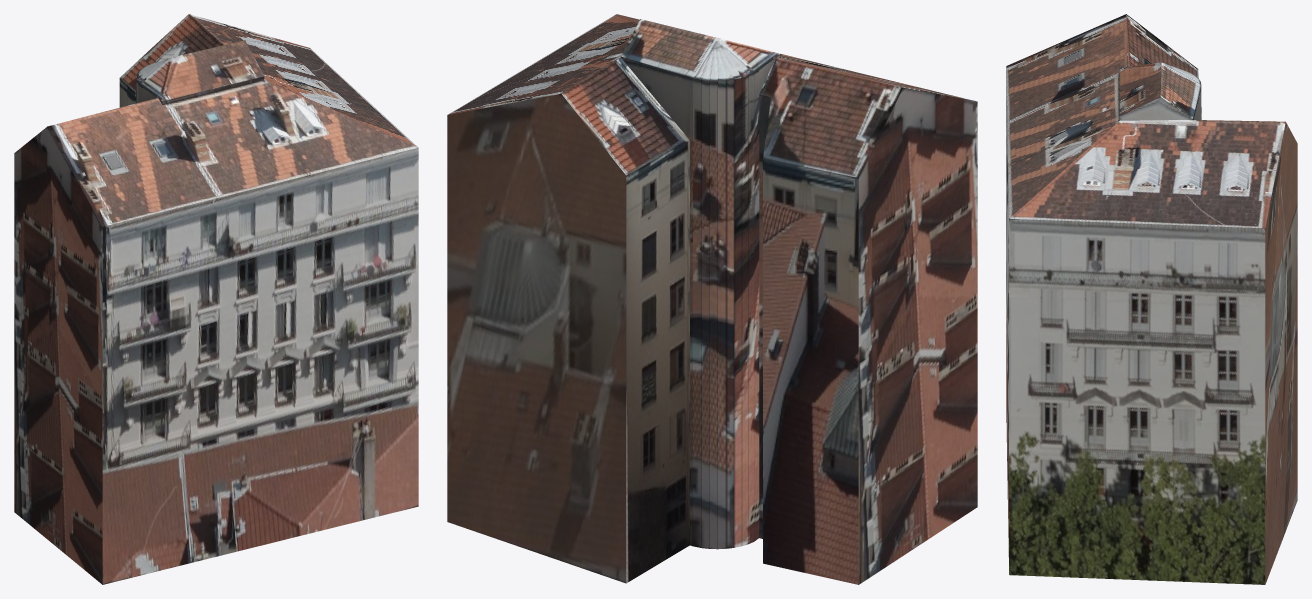
3 renders of one model, left to right at view 1: azimuth 30°, elevation 25°; view 2: azimuth 150°, elevation 25°; view 3: azimuth 270°, elevation 25°, orthographic. The views are drawn at different scales.
Visible parts, largest first — view 1: Z_UP; view 2: Z_UP; view 3: Z_UP.
Part boxes in pixels (left/top/right/bottom): Z_UP: left=14, top=14, right=418, bottom=584; Z_UP: left=447, top=14, right=977, bottom=584; Z_UP: left=1006, top=14, right=1297, bottom=584.
Size of the model in its own units: 24.49 by 30.12 by 18.42.
2 materials, 1 textured.
